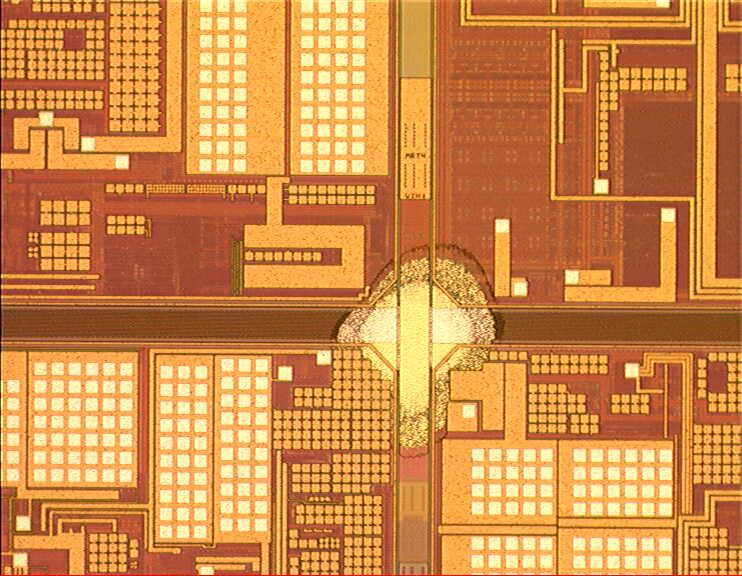BLOCK ETCH: (330, 238, 506, 463)
